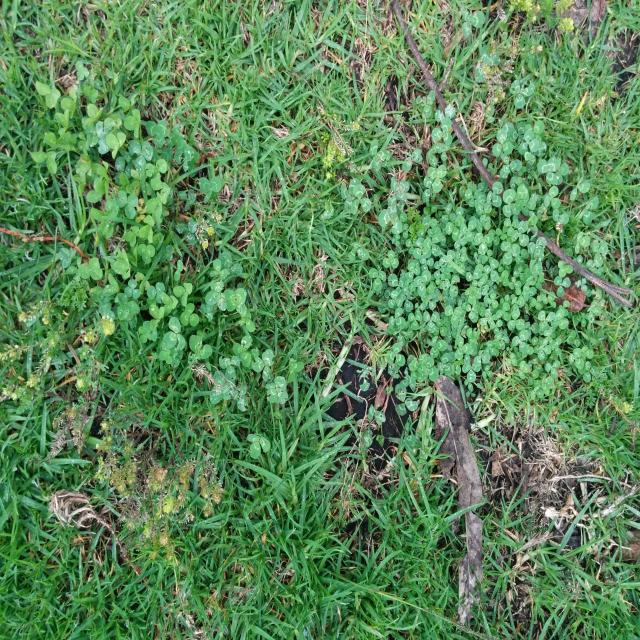Four Leaf Clover: (223, 288, 247, 315), (265, 376, 288, 404)
